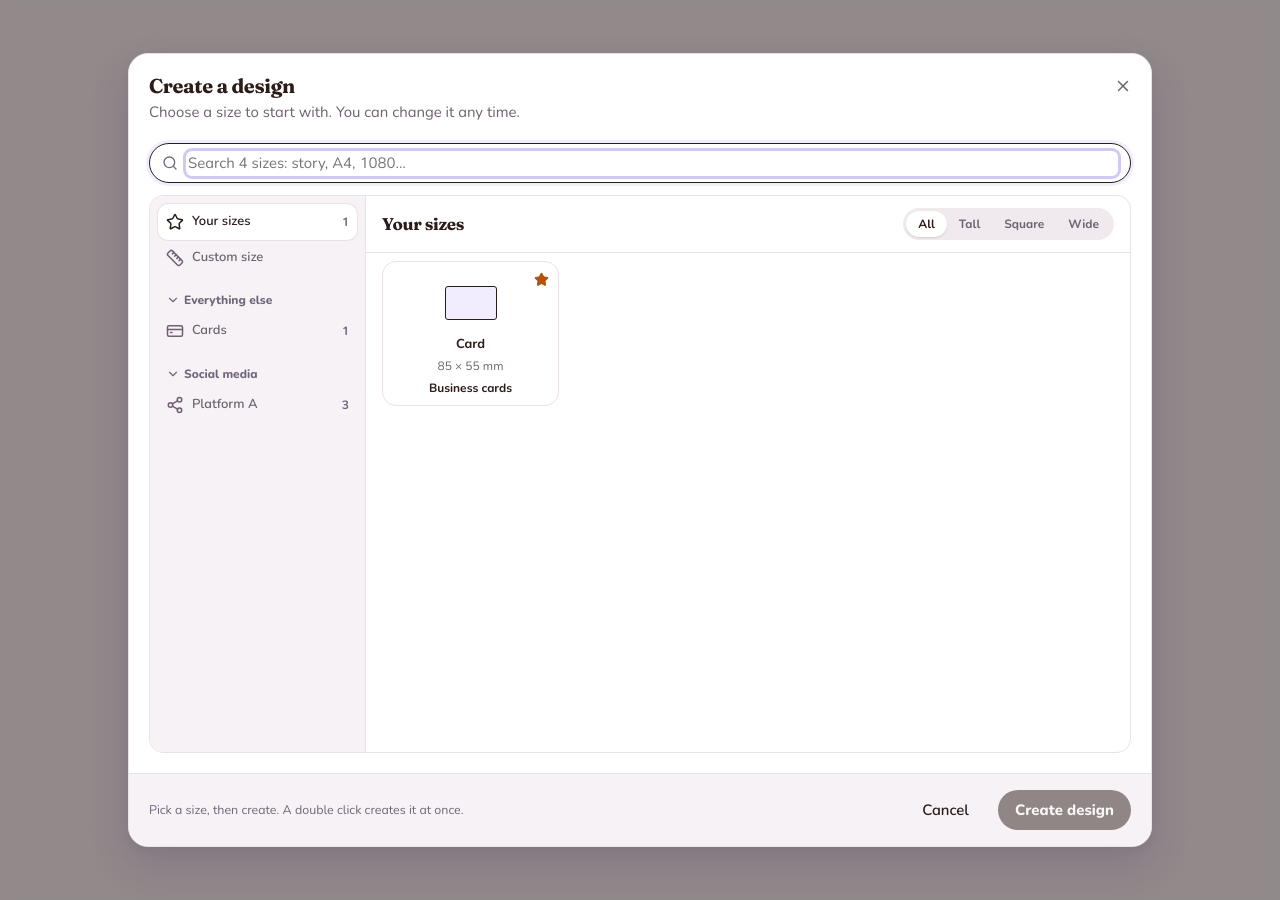
Test: Create a design dialog › shows a format under its sub-group headings, and a platform with its ads last
The width and height of the screenshot is (1280, 900).
Click the button "Cards 1". click: (258, 331)
box: [158,313,357,349]
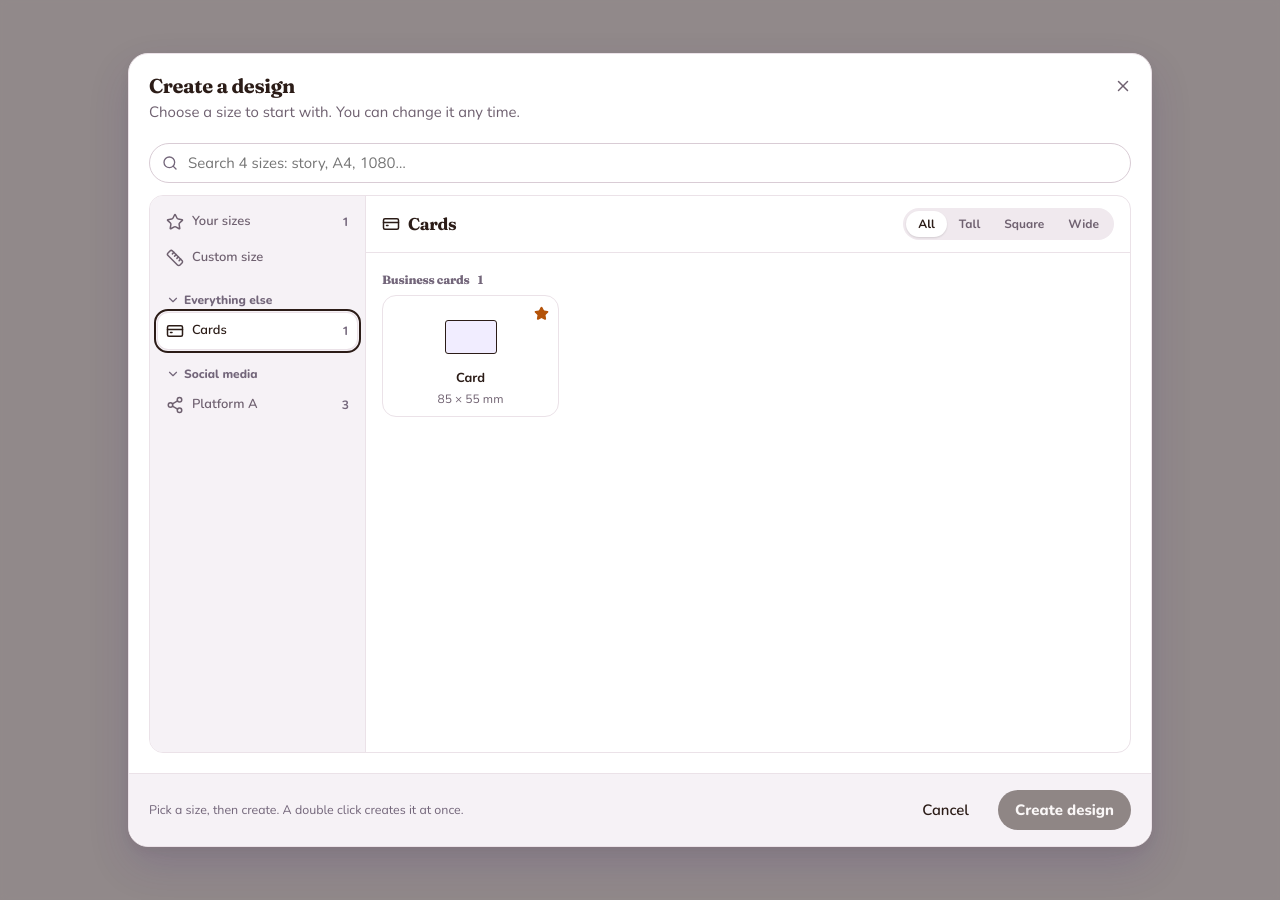
Check: the button "Card 85 × 55 mm" is shown, box [382,295,559,417]
Check: the heading "Business cards 1" is shown, box [382,272,483,287]
Click the button "Platform A 3". click: (258, 405)
box: [158,387,357,422]
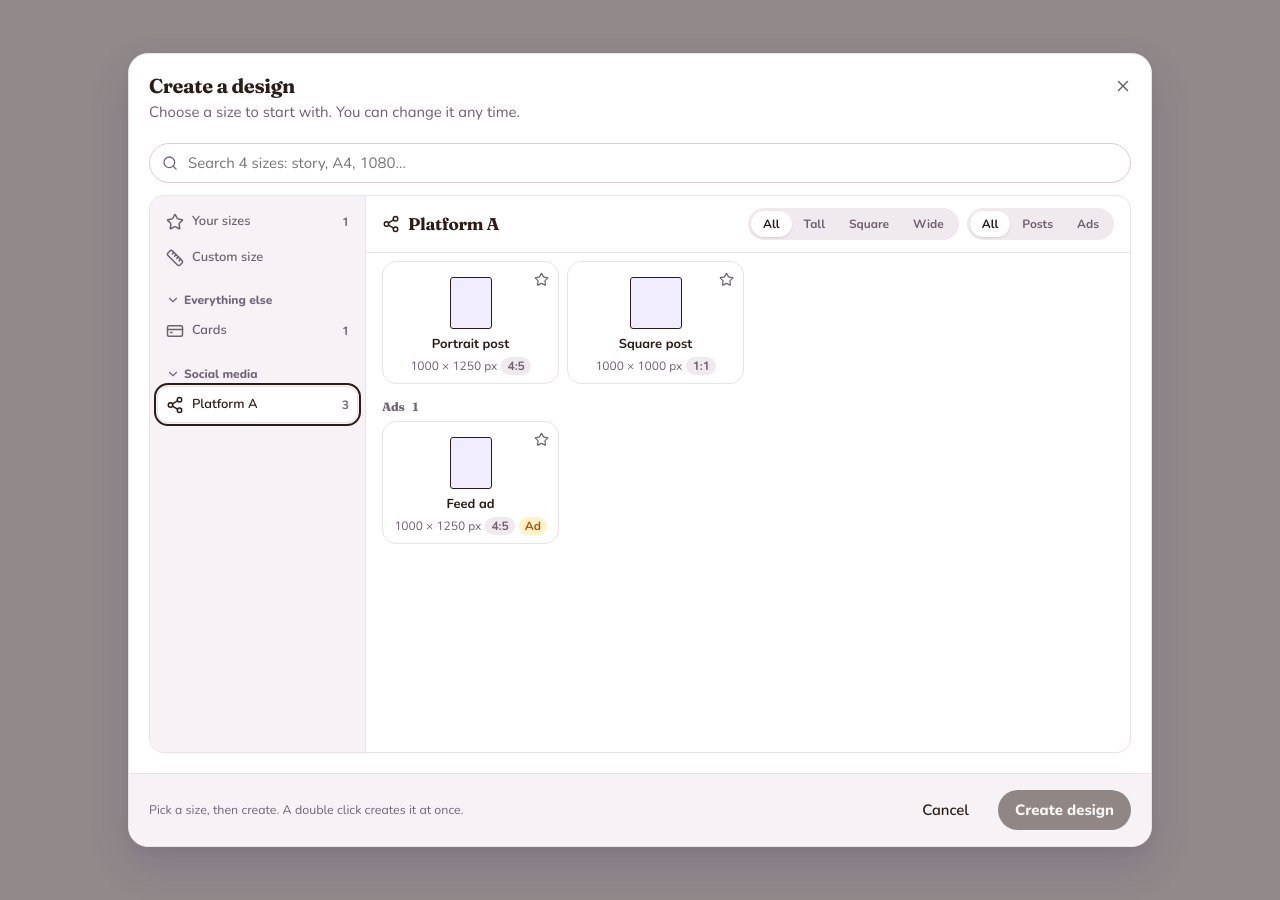
Check: the heading "Ads 1" is shown, box [382,398,418,414]
